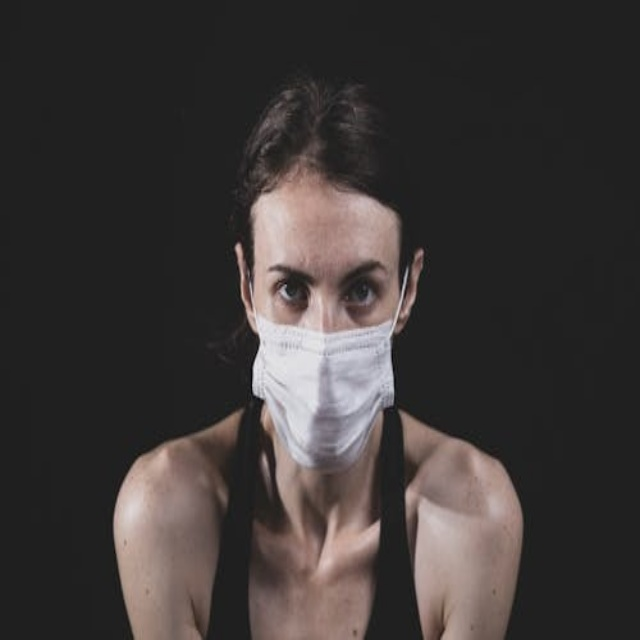Mascara: (250, 268, 403, 472)
Sin_gafas: (262, 248, 394, 329)
